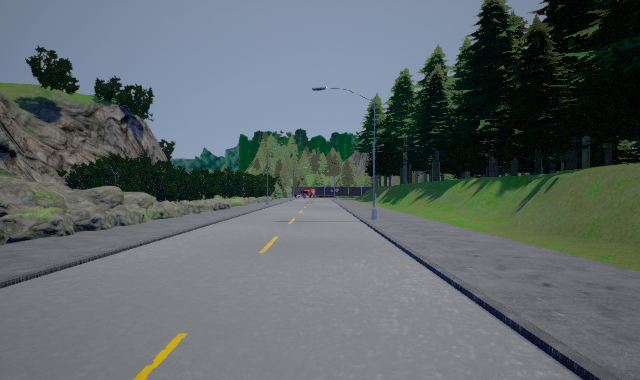vehicle: (302, 188, 316, 198)
